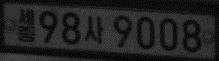0: (135, 15, 155, 50), (158, 16, 178, 51)
8: (181, 17, 202, 52), (61, 11, 81, 44)
9: (38, 10, 58, 43), (112, 14, 132, 47)
사: (84, 15, 104, 43)
세종_V: (16, 7, 37, 43)
